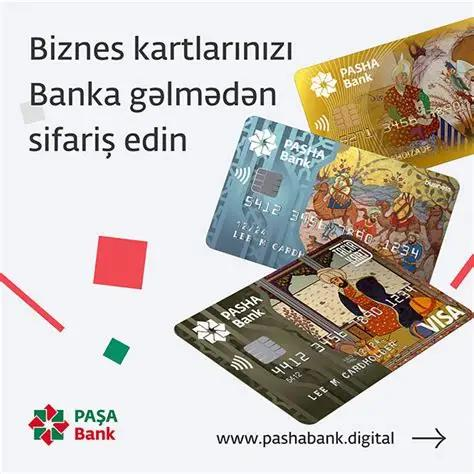Pasha Bank: (26, 402, 71, 446), (191, 319, 232, 347), (308, 68, 339, 100), (246, 127, 277, 158)
